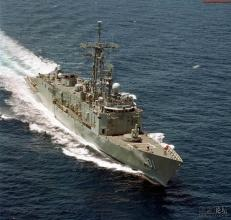warship: (24, 14, 183, 186)
